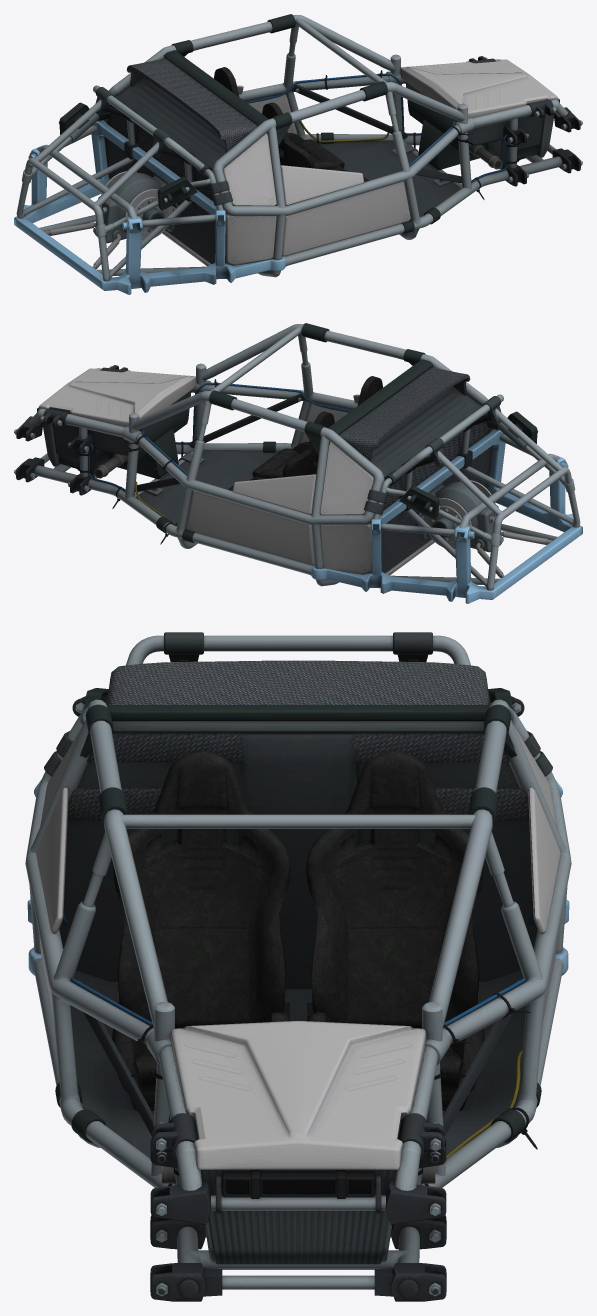
File: SM_Offroad_Body.glb
3 renders of one model, top to bottom at view 1: azimuth 30°, elevation 25°; view 2: azimuth 150°, elevation 25°; view 3: azimuth 270°, elevation 25°, orthographic. The views are drawn at different scales.
Parts seen in each view (by area): view 1: SM_Offroad_Body; view 2: SM_Offroad_Body; view 3: SM_Offroad_Body.
Part boxes in pixels (box(x1,y1,x2,y2)): SM_Offroad_Body: box(14, 14, 582, 294); SM_Offroad_Body: box(14, 323, 582, 603); SM_Offroad_Body: box(25, 632, 571, 1301).
Size of the model in its own units: 3.7 by 1.16 by 1.79.
Materials: 4 (3 with a texture image).
